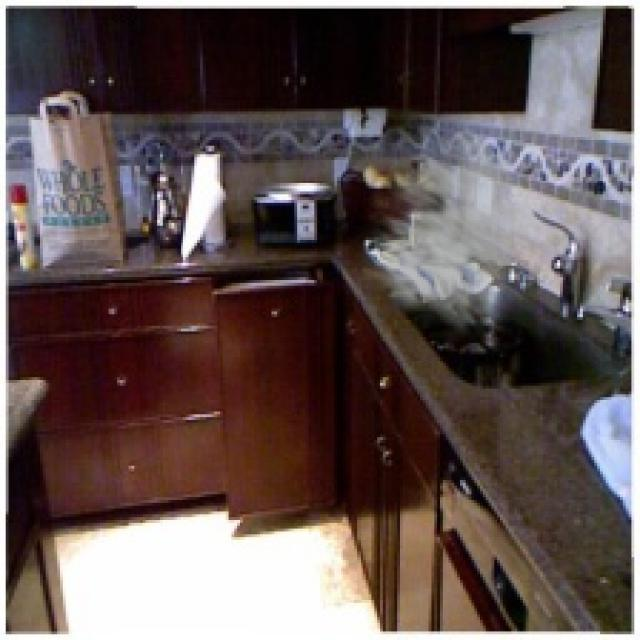Smoke: (346, 120, 546, 343)
